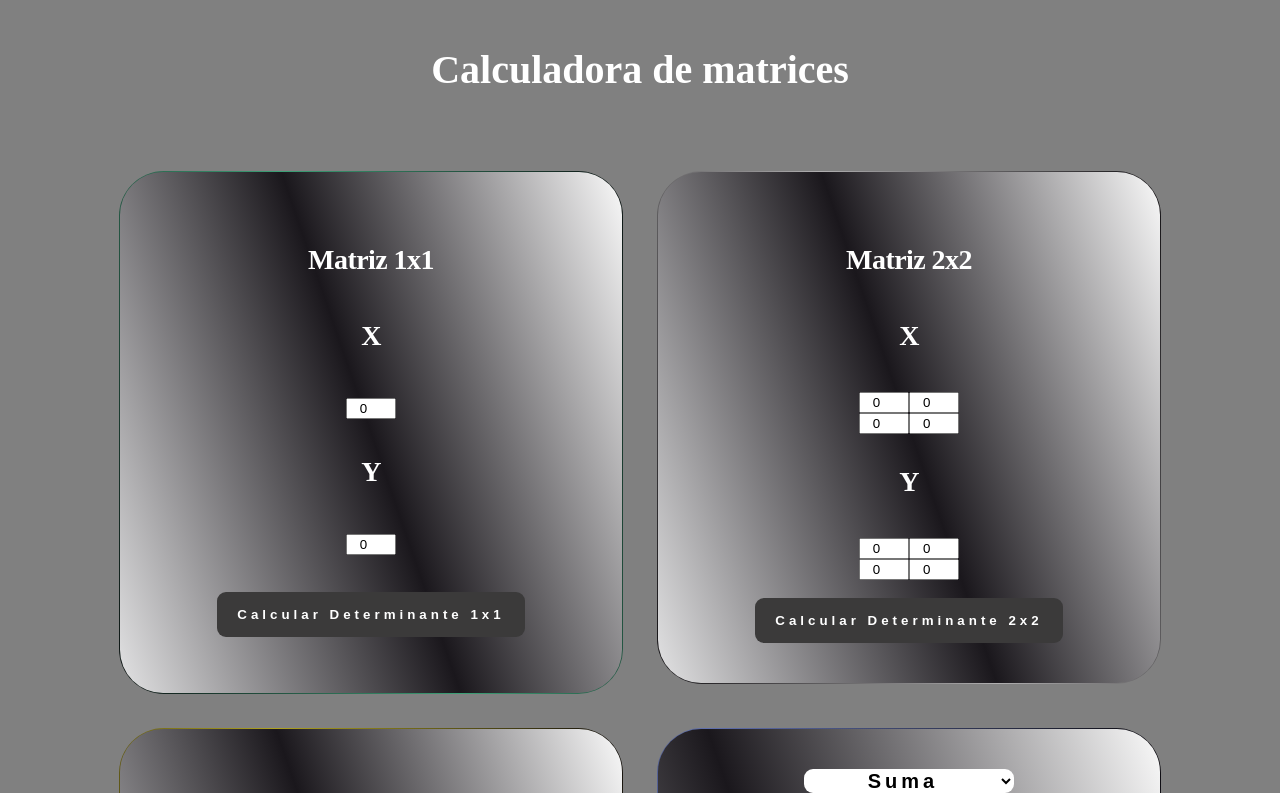
Test: MatrixCalculator › resets all matrix inputs when reset button is clicked
// Cambiamos los valores de los inputs
Replace the text in the number field named "Matriz 1x1 X" with "5" at (371, 408), box [346,398,396,419]
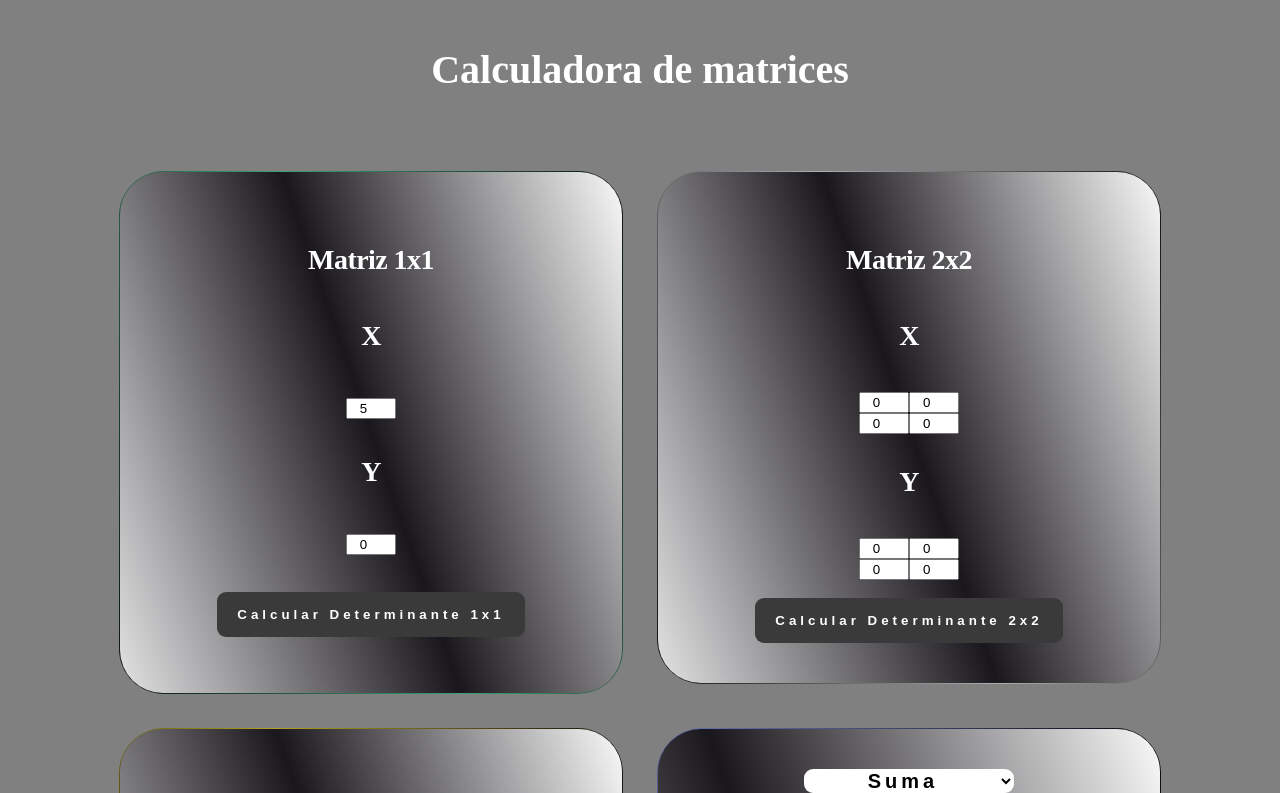
Replace the text in the number field named "Matriz 1x1 Y" with "3" at (371, 544), box [346,534,396,555]
(page scrolled)
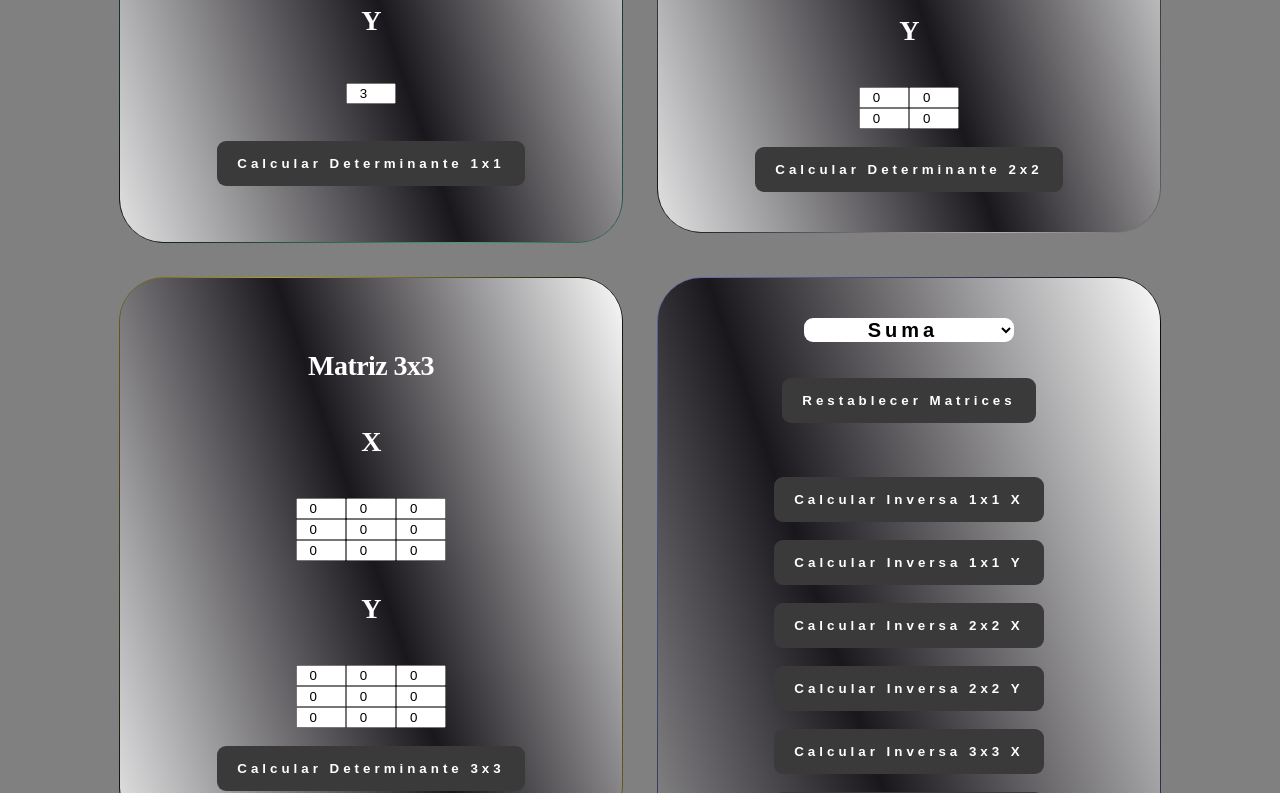
// Hacemos click en el botón de reset
Click the button "Restablecer Matrices".
click(909, 400)  # box [782,378,1036,423]
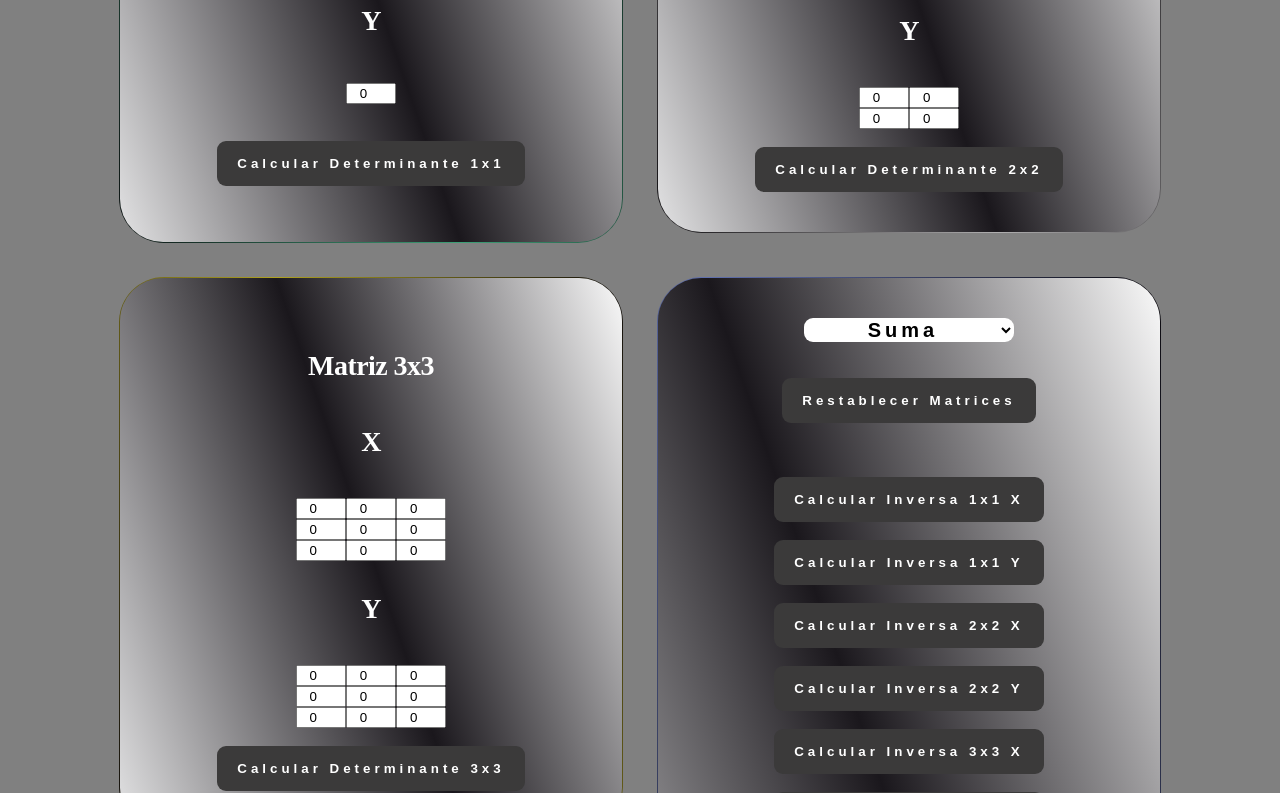
Now the number field named "Matriz 1x1 Y" holds "0", box [346,83,396,104]
